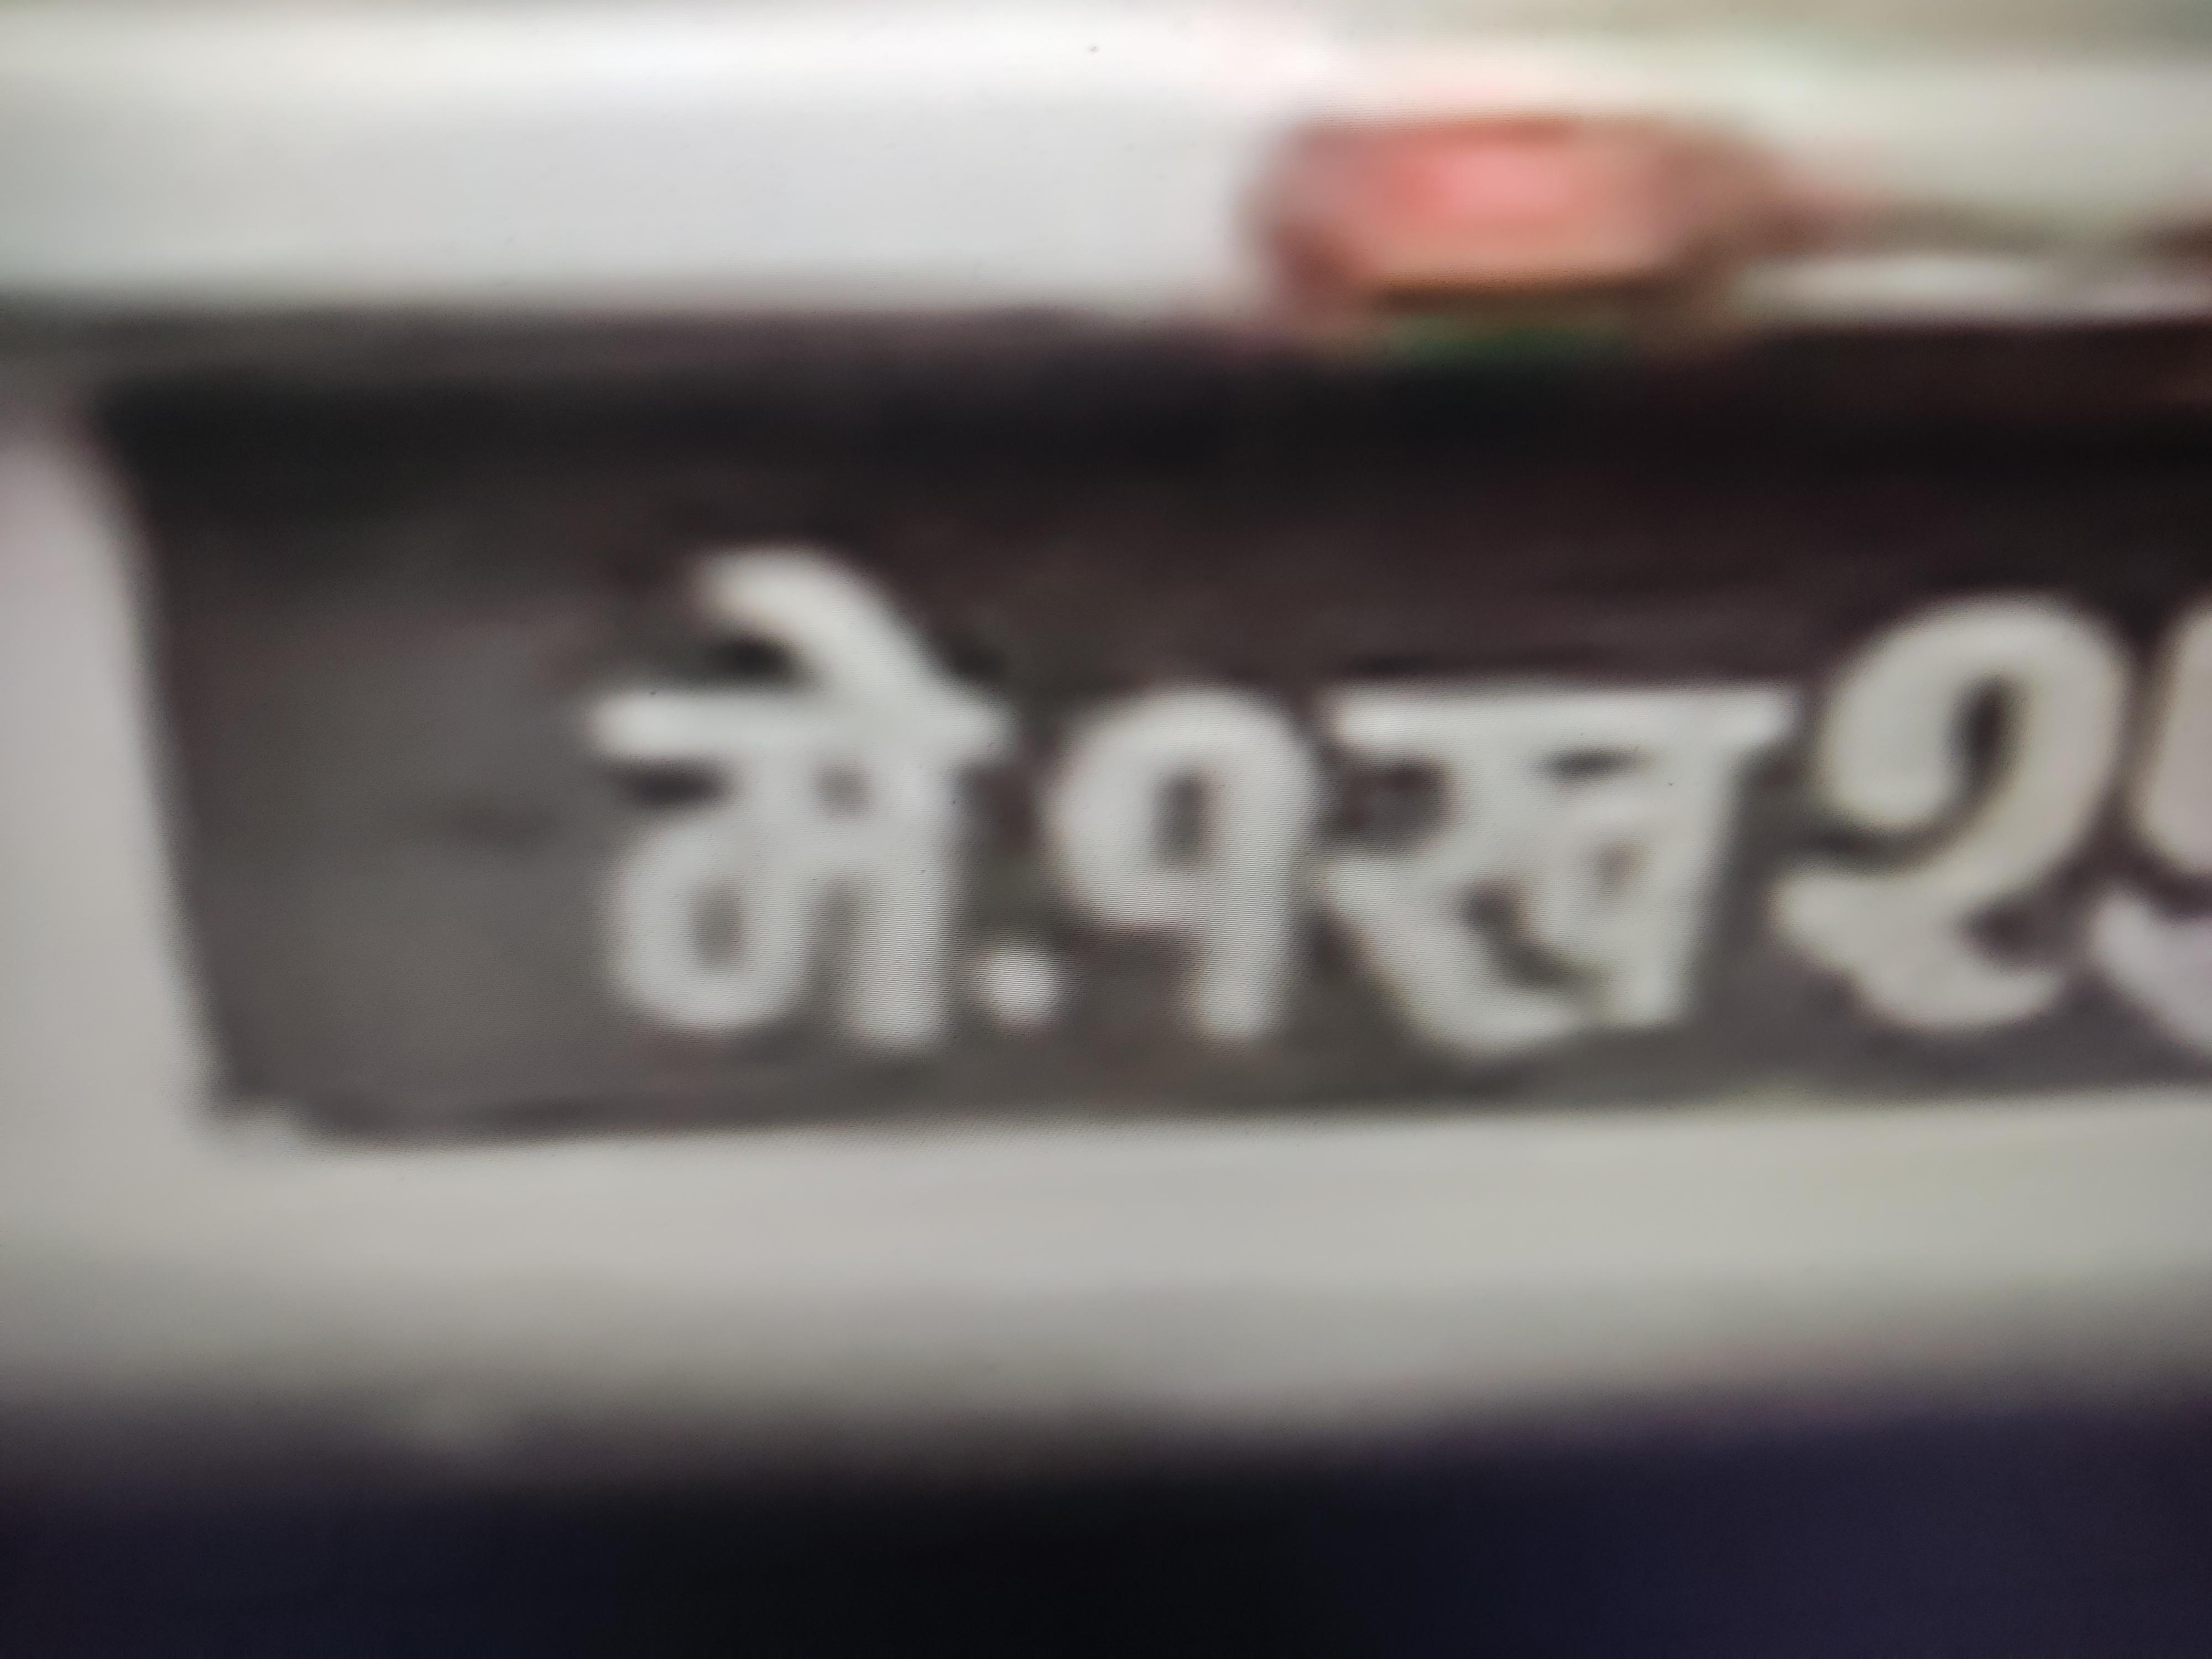1: (1015, 634, 1313, 1063)
2: (1784, 545, 2118, 1073)
kha: (1311, 642, 1776, 1093)
me: (531, 518, 1001, 1057)
